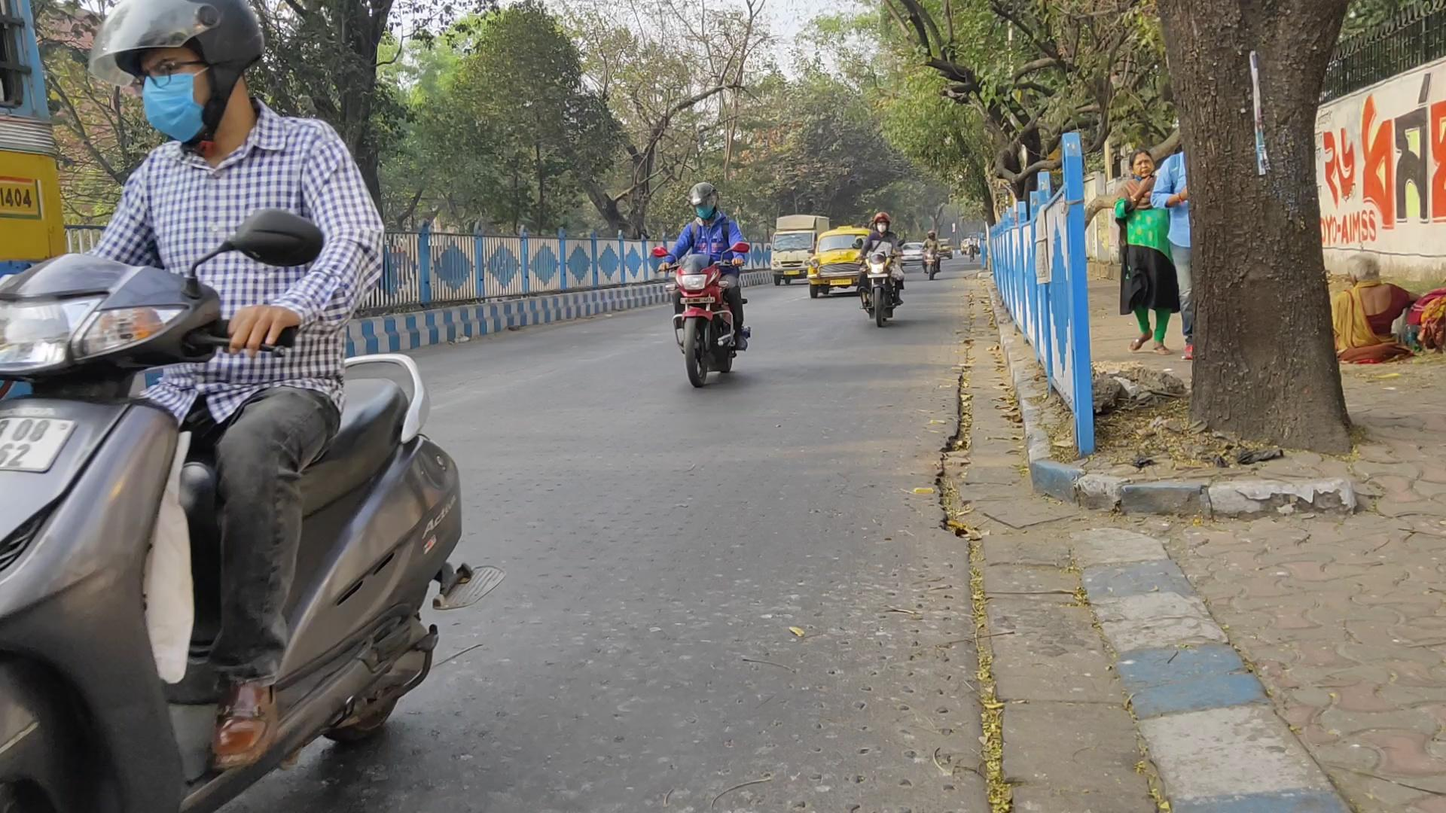bike: (4, 2, 506, 813), (654, 181, 751, 387), (856, 211, 908, 327), (920, 231, 943, 282)
car: (807, 225, 873, 300), (899, 242, 928, 270)
van: (769, 214, 829, 283)
